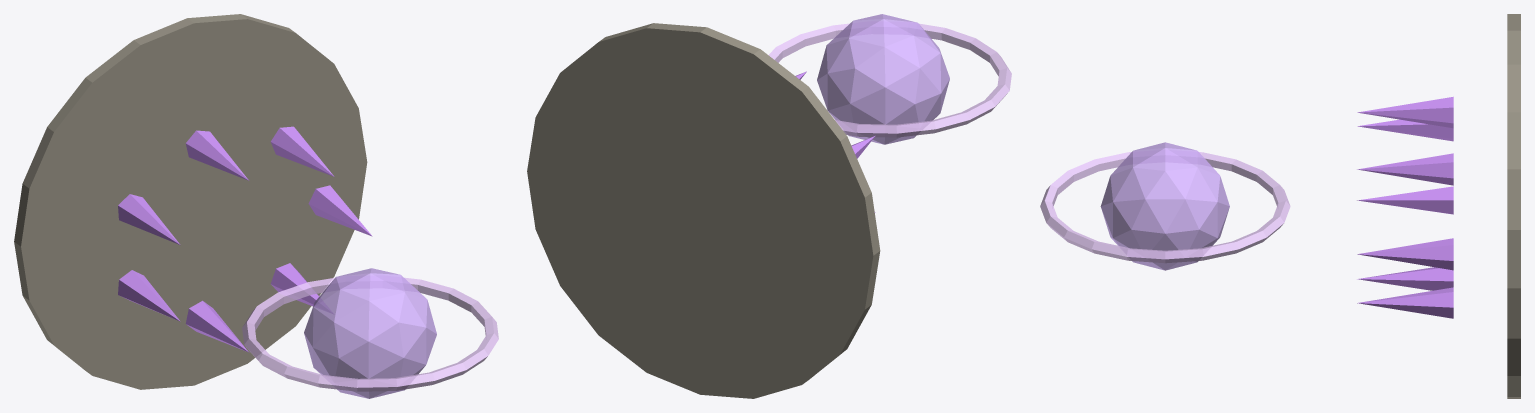
Rendered from 06_weather_terrain_nature_module.glb.
3 renders of one model, left to right at view 1: azimuth 30°, elevation 25°; view 2: azimuth 150°, elevation 25°; view 3: azimuth 270°, elevation 25°, orthographic. The views are drawn at different scales.
Visible parts, largest first — view 1: terrain_patch, sun_color_preview, weather_halo, nature_or_weather_element_2, nature_or_weather_element_1, nature_or_weather_element_0, nature_or_weather_element_3, nature_or_weather_element_5, nature_or_weather_element_4, nature_or_weather_element_6; view 2: terrain_patch, sun_color_preview, weather_halo; view 3: sun_color_preview, weather_halo, terrain_patch, nature_or_weather_element_0, nature_or_weather_element_1, nature_or_weather_element_2, nature_or_weather_element_6, nature_or_weather_element_4, nature_or_weather_element_5, nature_or_weather_element_3.
Part boxes in pixels (x1=…): terrain_patch: x1=14, y1=14, x2=367, y2=389; sun_color_preview: x1=304, y1=268, x2=436, y2=398; weather_halo: x1=242, y1=277, x2=498, y2=391; nature_or_weather_element_2: x1=185, y1=130, x2=248, y2=180; nature_or_weather_element_1: x1=271, y1=126, x2=334, y2=176; nature_or_weather_element_0: x1=308, y1=185, x2=372, y2=236; nature_or_weather_element_3: x1=118, y1=194, x2=180, y2=244; nature_or_weather_element_5: x1=185, y1=300, x2=248, y2=352; nature_or_weather_element_4: x1=118, y1=270, x2=180, y2=321; nature_or_weather_element_6: x1=271, y1=263, x2=319, y2=306; terrain_patch: x1=527, y1=23, x2=880, y2=398; sun_color_preview: x1=817, y1=14, x2=949, y2=144; weather_halo: x1=768, y1=23, x2=1011, y2=137; sun_color_preview: x1=1100, y1=142, x2=1229, y2=270; weather_halo: x1=1040, y1=152, x2=1290, y2=263; terrain_patch: x1=1507, y1=14, x2=1520, y2=398; nature_or_weather_element_0: x1=1357, y1=238, x2=1453, y2=270; nature_or_weather_element_1: x1=1357, y1=153, x2=1453, y2=185; nature_or_weather_element_2: x1=1357, y1=96, x2=1453, y2=128; nature_or_weather_element_6: x1=1357, y1=287, x2=1453, y2=318; nature_or_weather_element_4: x1=1357, y1=186, x2=1453, y2=214; nature_or_weather_element_5: x1=1357, y1=267, x2=1453, y2=290; nature_or_weather_element_3: x1=1357, y1=119, x2=1453, y2=141.
Size of the model in its own units: 1.44 by 1.44 by 1.78.
